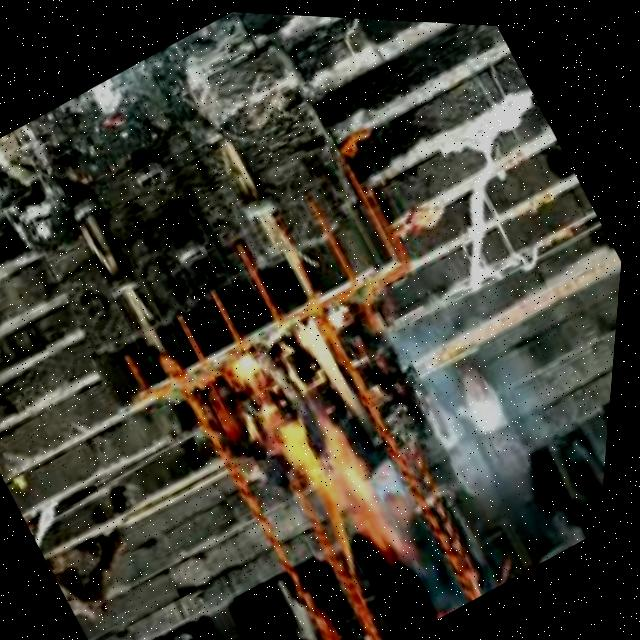Fire: (220, 292, 473, 588)
